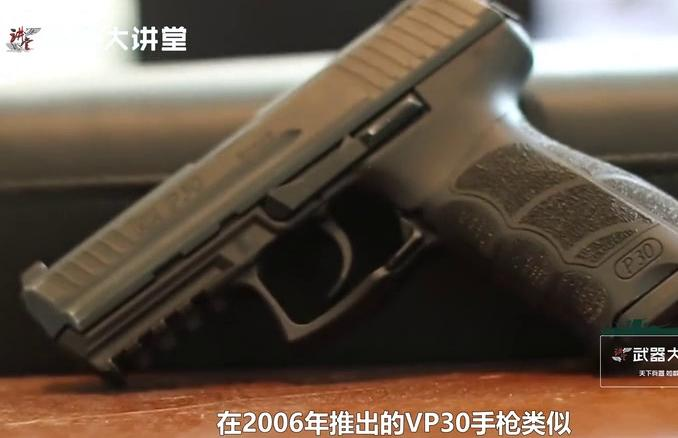gun: (1, 1, 678, 438)
